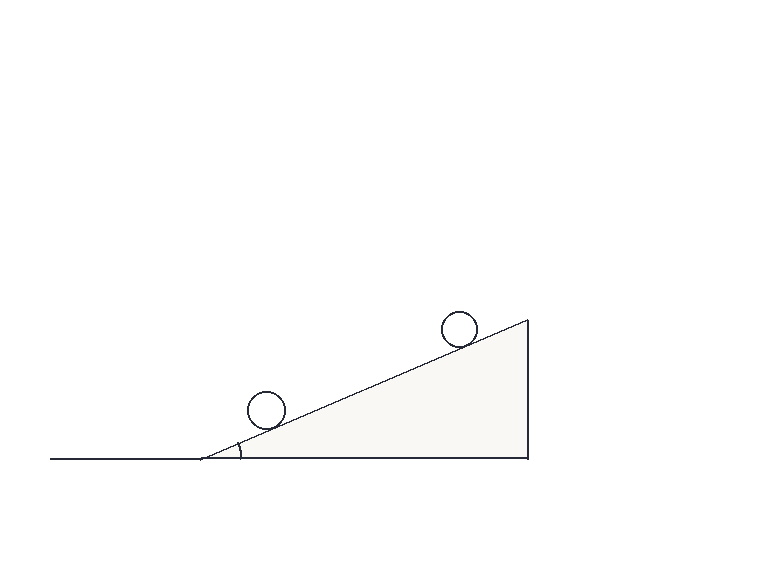ball: (245, 389, 287, 431), (439, 309, 479, 349)
ramp: (199, 318, 529, 460)
